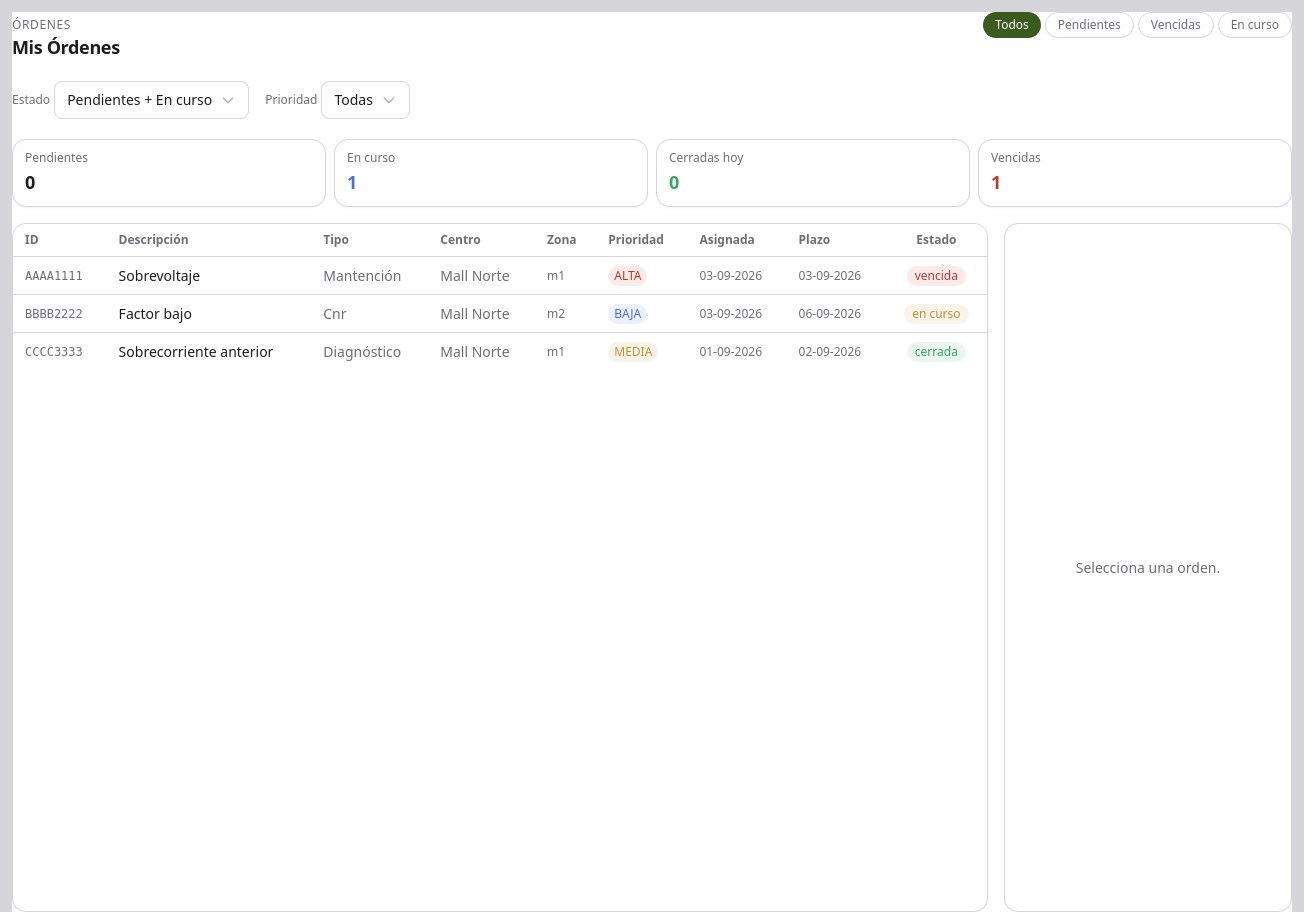
Test: MisOrdenesPage › quick filter › filters to en curso
Click the button "En curso".
click(1255, 25)  # box [1218,12,1292,38]
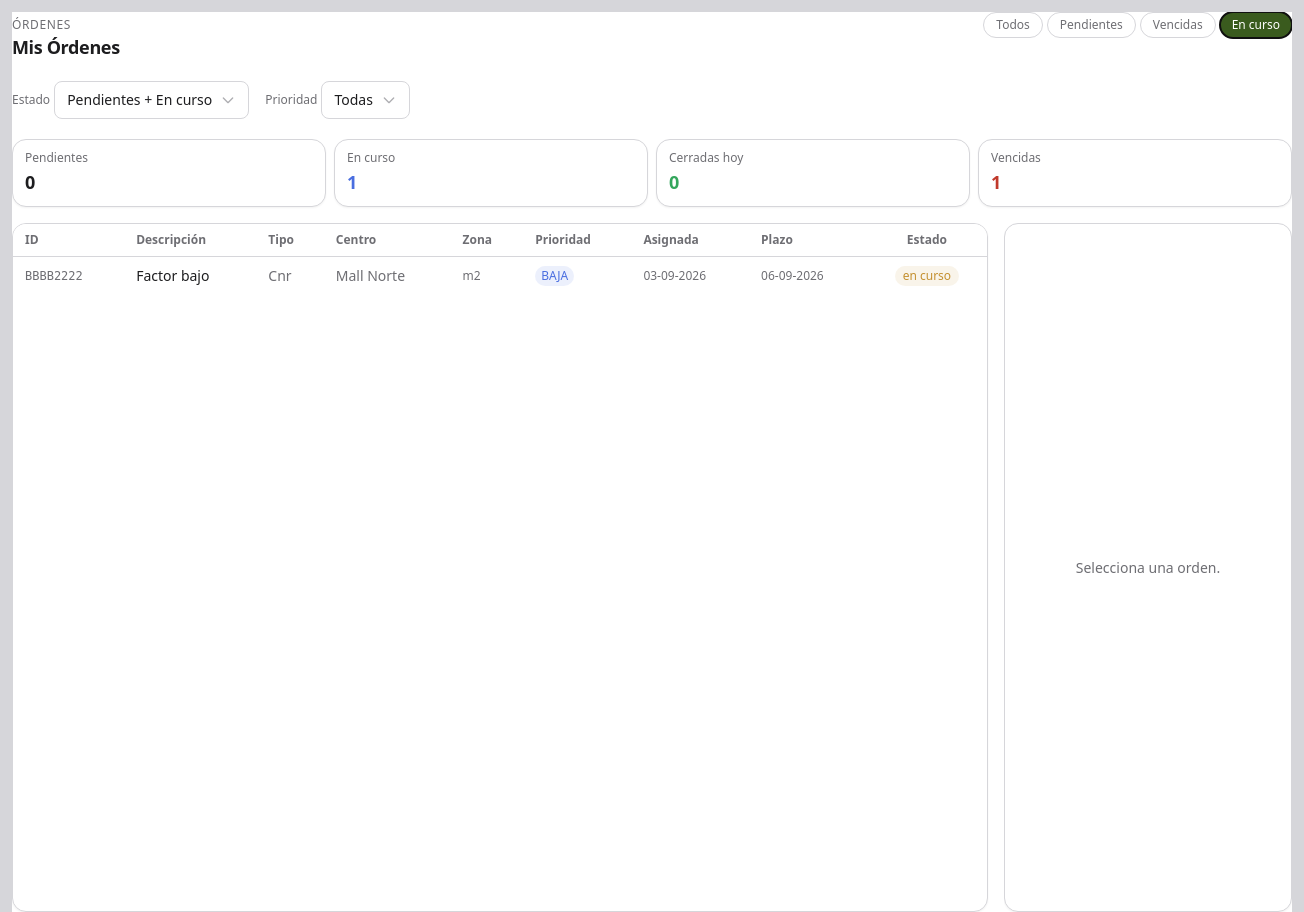
Expected: the text "Factor bajo" is shown, [136,266,209,284]
Result: the text "Sobrevoltaje" is gone
